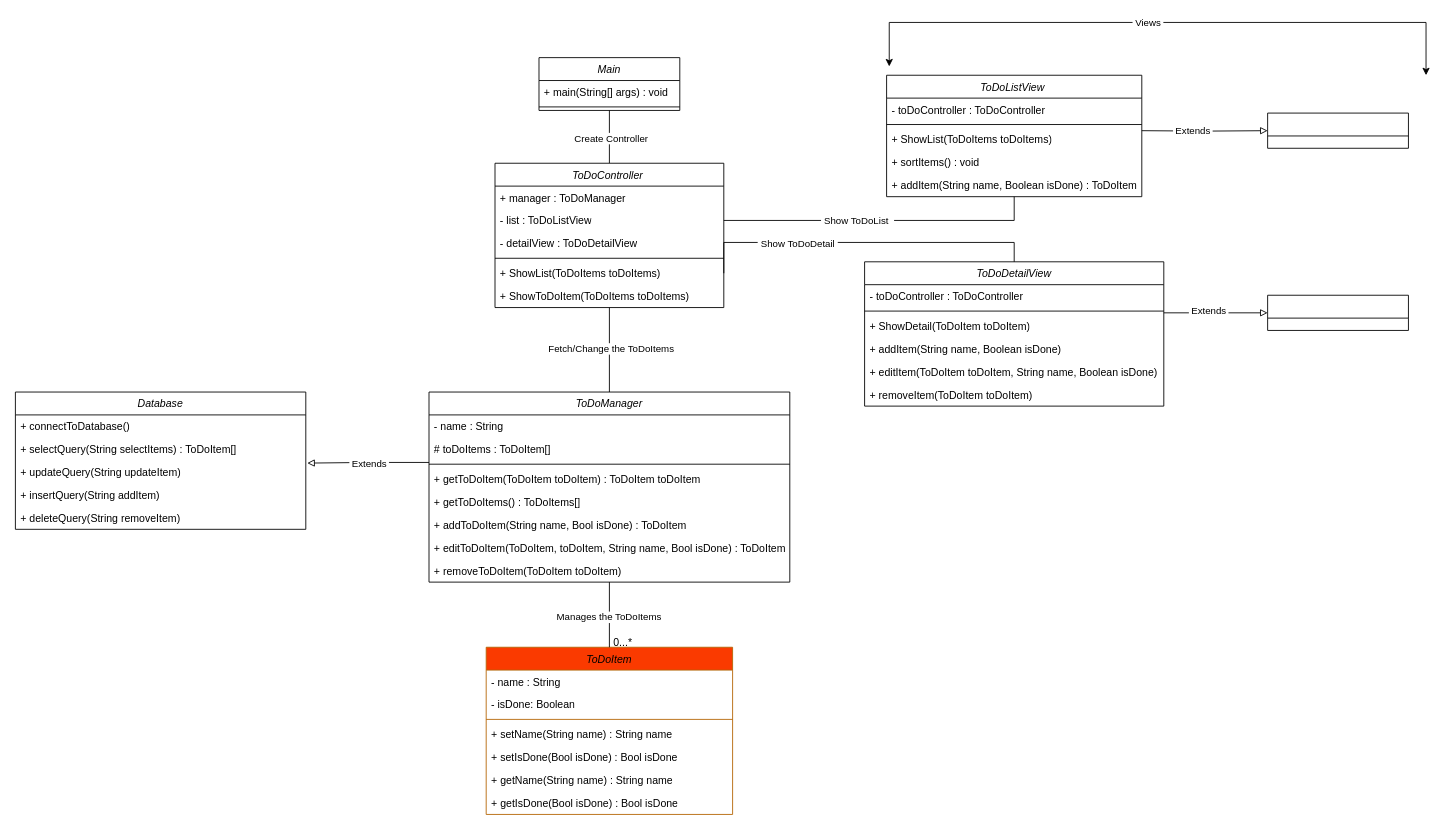
Some shapes in this 1449 by 832 pixel diagram are drawn without their labels. Here are the shapes that lost their labels. From the top down, the centre of each, then its label:
point (1337, 130): JList
point (1337, 312): JFrame
